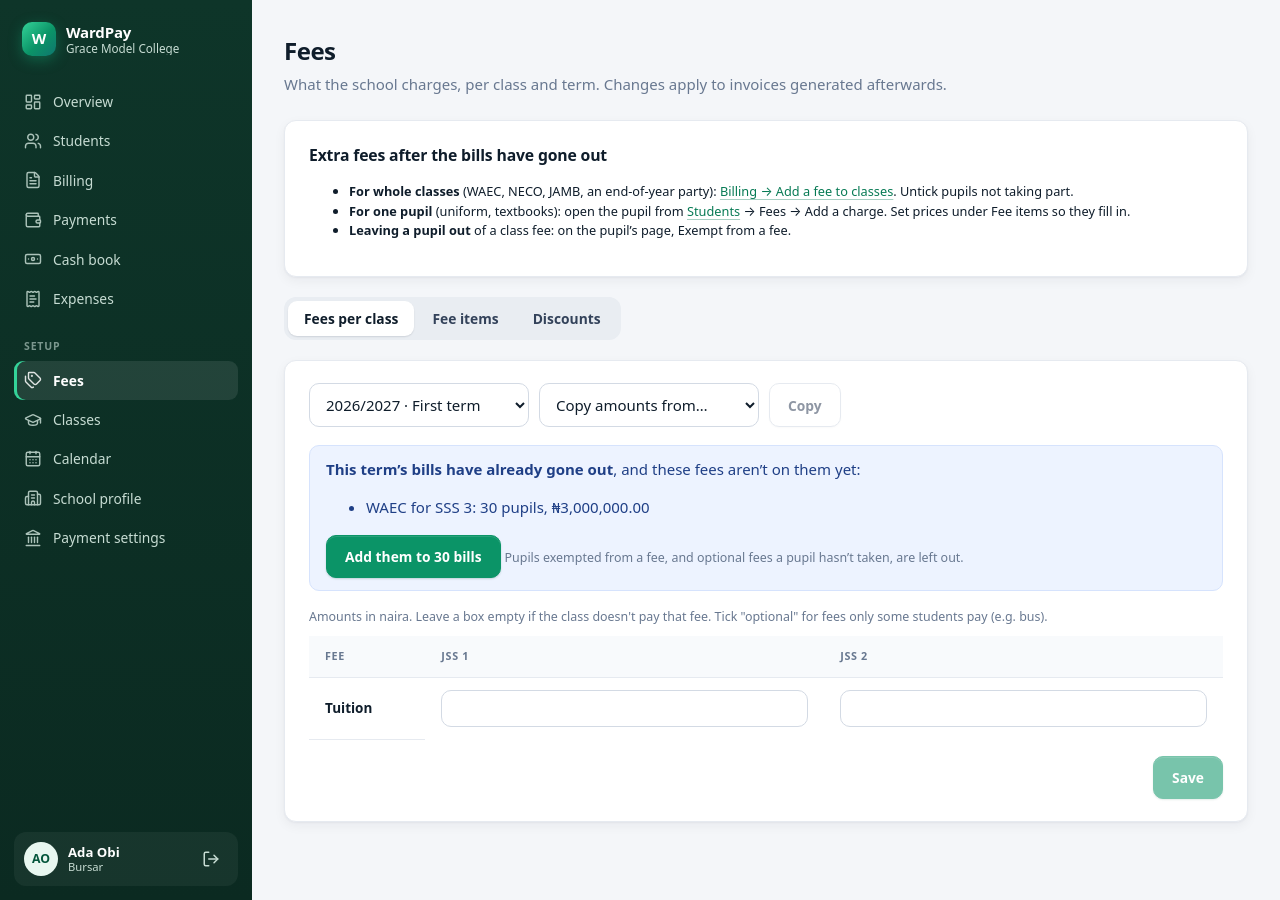
Scenario: fees and billing › offers to add fees set after billing to the bills already sent
Expected: the list item "WAEC for SSS 3: 30 pupils, ₦3,000,000.00" is shown, [366,498,650,518]
Click the button "Add them to 30 bills": (413, 556) [326,535,501,578]
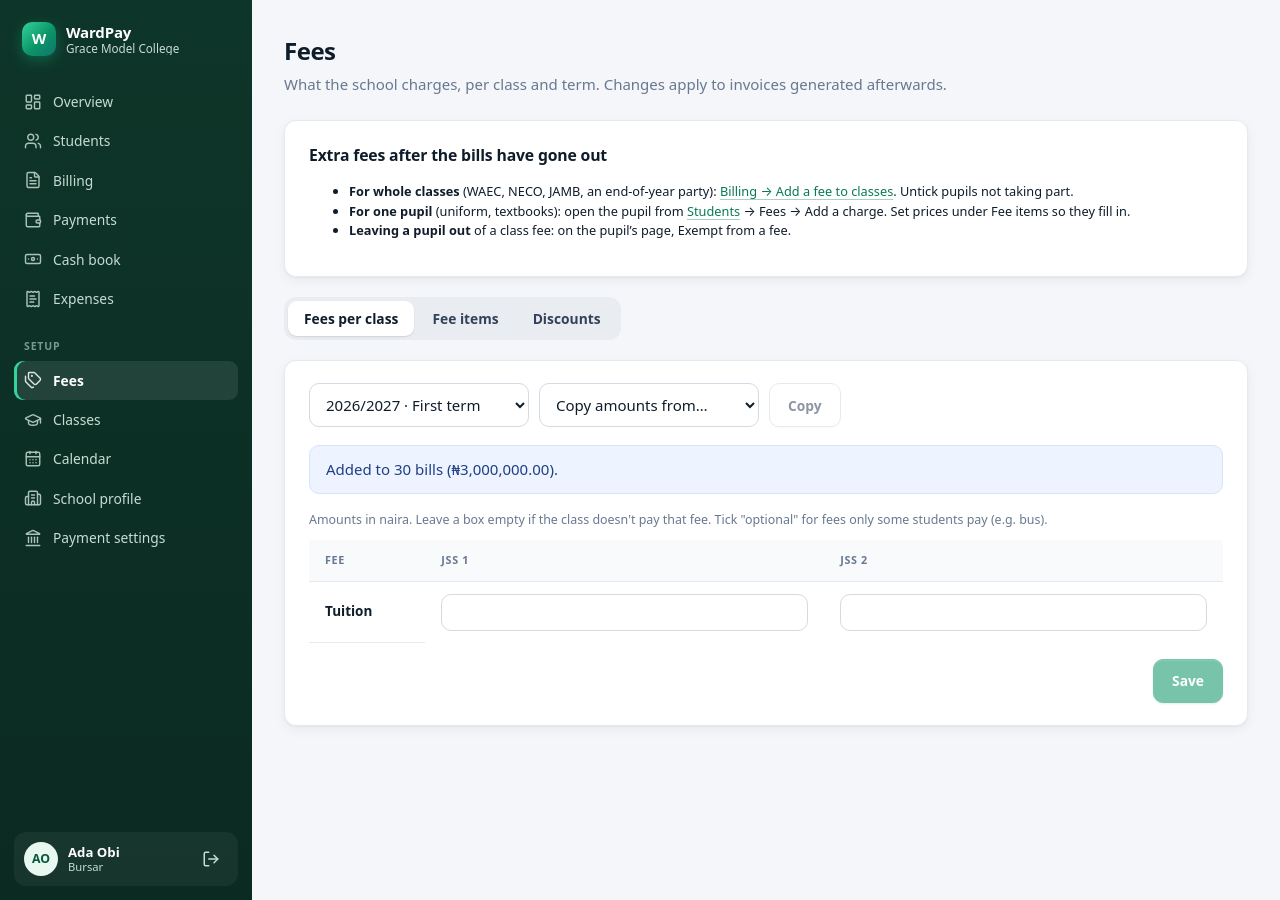
Expected: the text "Added to 30 bills (₦3,000,000.00)." is shown, [309,445,1223,494]
